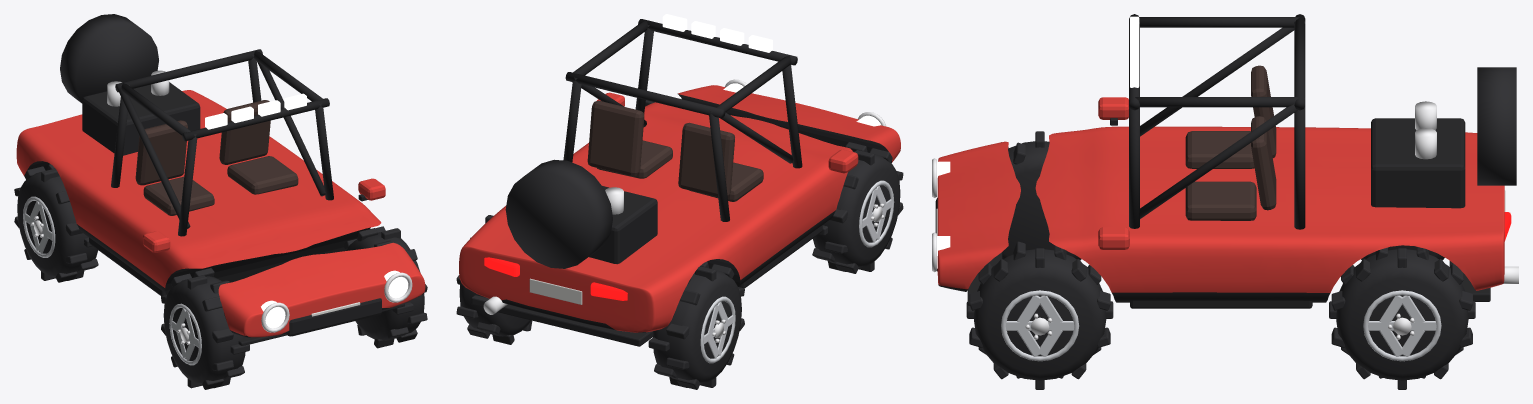
File: dune_mid.glb
3 views of the same model, side by side, from view 1: azimuth 30°, elevation 25°; view 2: azimuth 150°, elevation 25°; view 3: azimuth 270°, elevation 25° (orthographic). The views are drawn at different scales.
Parts seen in each view (by area): view 1: body, wheel_fr, wheel_rr, wheel_fl; view 2: body, wheel_rr, wheel_fr, wheel_rl; view 3: body, wheel_fl, wheel_rl, wheel_fr.
Part boxes in pixels (<box>): body: <box>16,14,425,345</box>; wheel_fr: <box>161,268,249,389</box>; wheel_rr: <box>14,164,98,282</box>; wheel_fl: <box>343,226,427,348</box>; body: <box>459,14,900,346</box>; wheel_rr: <box>648,262,744,389</box>; wheel_fr: <box>812,142,903,273</box>; wheel_rl: <box>456,215,532,344</box>; body: <box>932,14,1518,308</box>; wheel_fl: <box>966,241,1113,389</box>; wheel_rl: <box>1329,247,1475,389</box>; wheel_fr: <box>1001,131,1081,260</box>.
Size of the model in its own units: 2.11 by 1.97 by 3.73.
